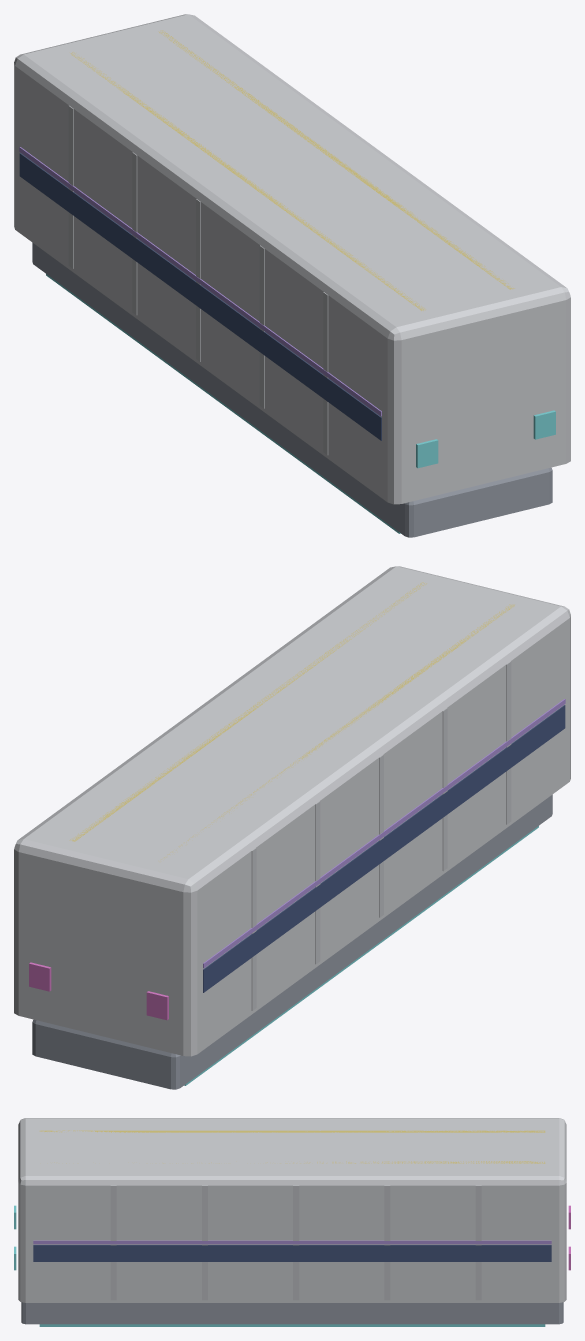
Rendered from rn2-orbital-truck.glb.
3 views of the same model, one above another, from view 1: azimuth 30°, elevation 25°; view 2: azimuth 150°, elevation 25°; view 3: azimuth 270°, elevation 25° (orthographic). The views are drawn at different scales.
Parts seen in each view (by area): view 1: rn2_orbital_truck_body, rn2_orbital_truck_glow; view 2: rn2_orbital_truck_body, rn2_orbital_truck_glow; view 3: rn2_orbital_truck_body, rn2_orbital_truck_glow.
Part boxes in pixels (box(x1,y1,x2,y2)): rn2_orbital_truck_body: box(14, 14, 570, 537); rn2_orbital_truck_glow: box(19, 30, 555, 533); rn2_orbital_truck_body: box(14, 566, 570, 1089); rn2_orbital_truck_glow: box(29, 582, 565, 1085); rn2_orbital_truck_body: box(18, 1118, 566, 1324); rn2_orbital_truck_glow: box(14, 1130, 570, 1326).
Bounding box in the file's own units: 2.51 × 2.82 × 9.16.
